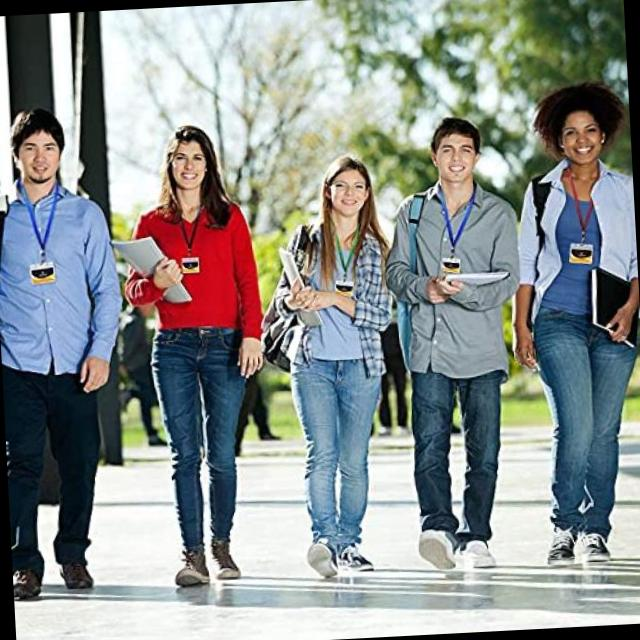id_card: (21, 182, 64, 284), (431, 189, 476, 278), (172, 193, 210, 274), (562, 174, 594, 267), (328, 224, 360, 304)
